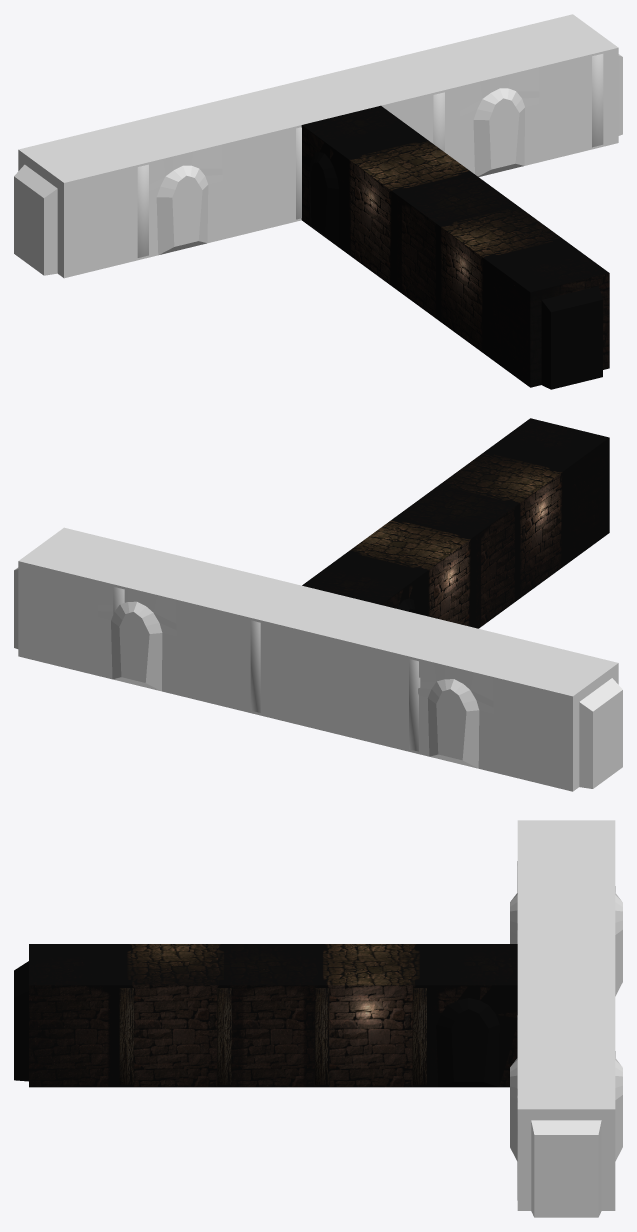
The model's file is Arquivo finalizado.fbx.
The picture shows the model from 3 angles, top to bottom: view 1: azimuth 30°, elevation 25°; view 2: azimuth 150°, elevation 25°; view 3: azimuth 270°, elevation 25°; orthographic projection. The views are drawn at different scales.
Visible parts, largest first — view 1: Castle_wall01, Caltle_wall2, Castle_celing01, Castle_wall3, Castle_teto3, Castle_teto2, Castle_viga3, Castle_viga2; view 2: Castle_wall3, Caltle_wall2, Castle_celing01, Castle_wall01, Castle_teto3, Castle_teto2, Castle_viga3, Castle_viga2; view 3: Castle_wall01, Castle_celing01, Castle_teto3, Castle_teto2, Castle_wall3, Castle_Viga01, Caltle_wall2.
Boxes of the visible parts, x1,y1,x2,y2 form: Castle_wall01: (301, 125, 609, 389); Caltle_wall2: (14, 125, 301, 278); Castle_celing01: (302, 105, 608, 292); Castle_wall3: (381, 47, 622, 176); Castle_teto3: (256, 14, 617, 124); Castle_teto2: (18, 91, 300, 182); Castle_viga3: (433, 54, 603, 152); Castle_viga2: (137, 127, 301, 257); Castle_wall3: (14, 561, 335, 733); Caltle_wall2: (335, 638, 622, 791); Castle_celing01: (302, 418, 609, 604); Castle_wall01: (381, 438, 609, 628); Castle_teto3: (19, 527, 380, 638); Castle_teto2: (335, 605, 617, 696); Castle_viga3: (113, 586, 260, 712); Castle_viga2: (409, 659, 420, 751); Castle_wall01: (14, 961, 517, 1087); Castle_celing01: (29, 944, 517, 985); Castle_teto3: (517, 944, 615, 1109); Castle_teto2: (517, 820, 615, 943); Castle_wall3: (510, 1051, 622, 1217); Castle_Viga01: (119, 988, 426, 1084); Caltle_wall2: (510, 886, 622, 996).
Bounding box in the file's own units: 1462 × 230 × 1247.
